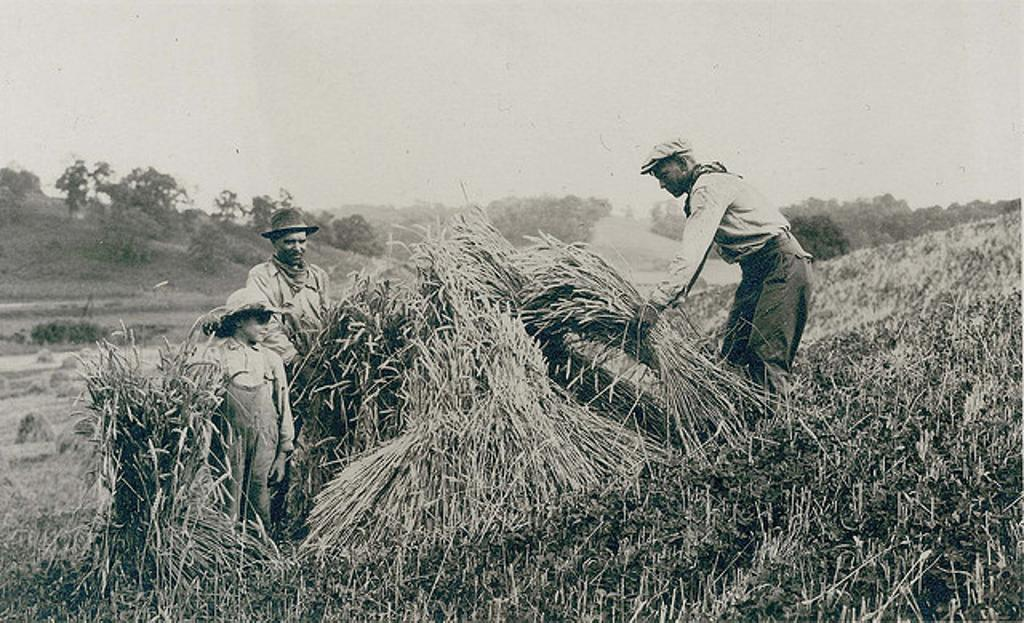face: (655, 159, 683, 196), (276, 230, 306, 264), (242, 306, 268, 341)
